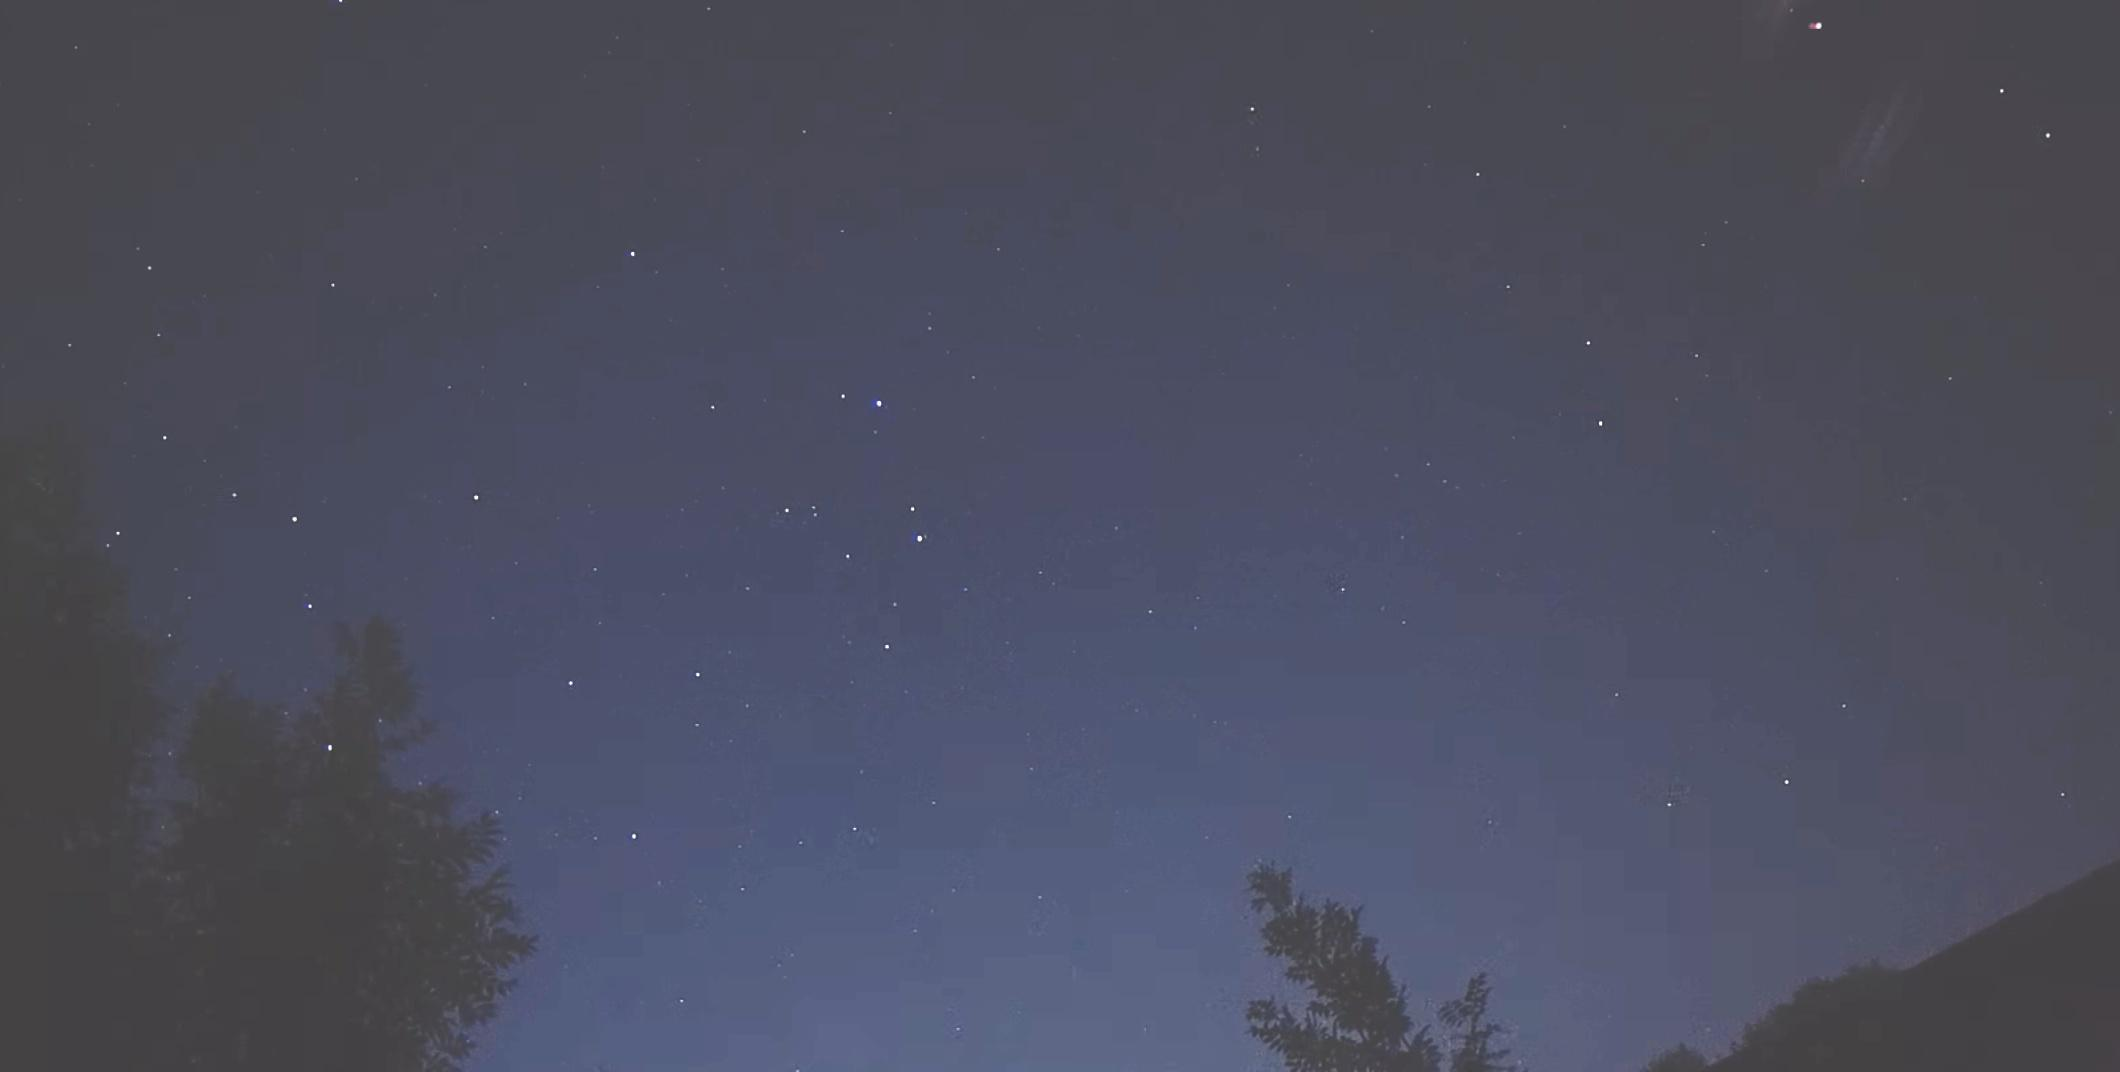Plane: (1778, 8, 1856, 40)
